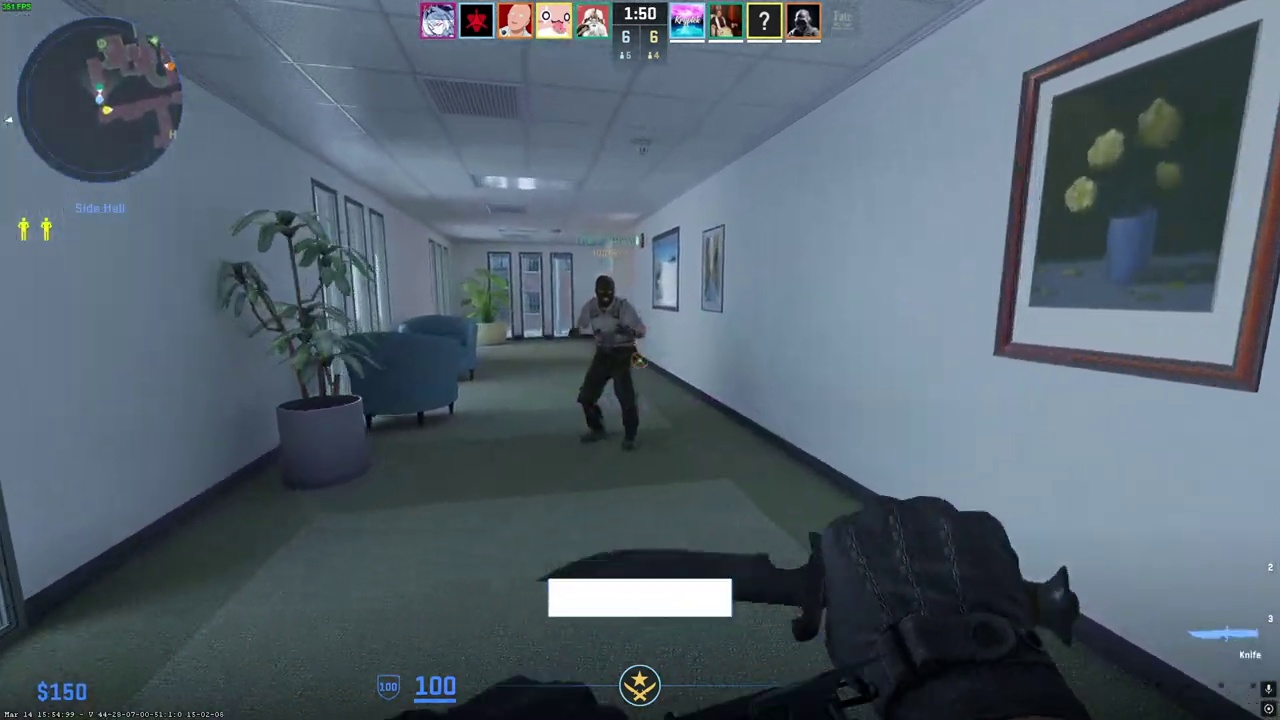Terrorist: (573, 273, 647, 454)
